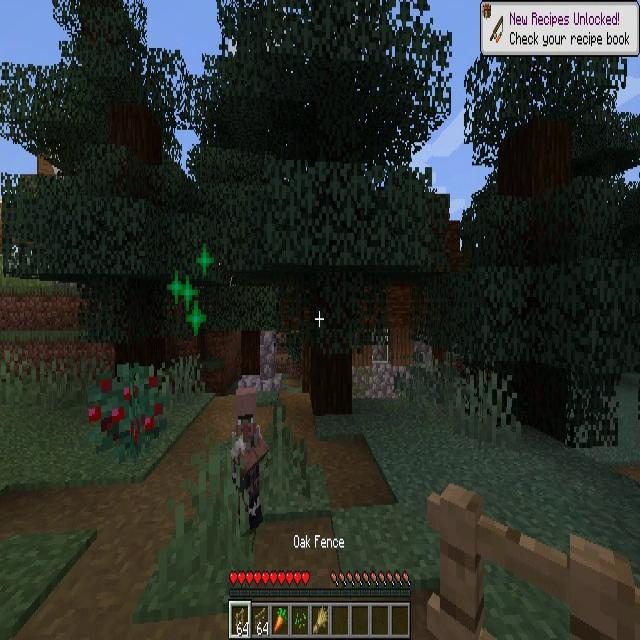people: (232, 390, 268, 530)
